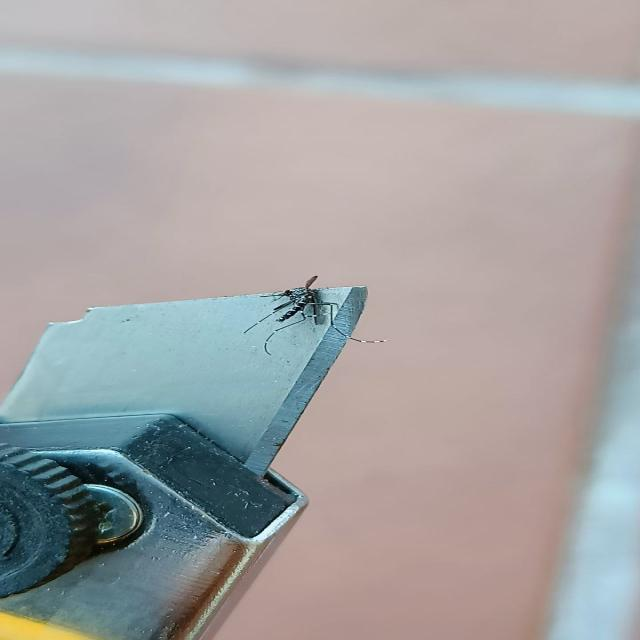albopictus: (233, 268, 362, 356)
